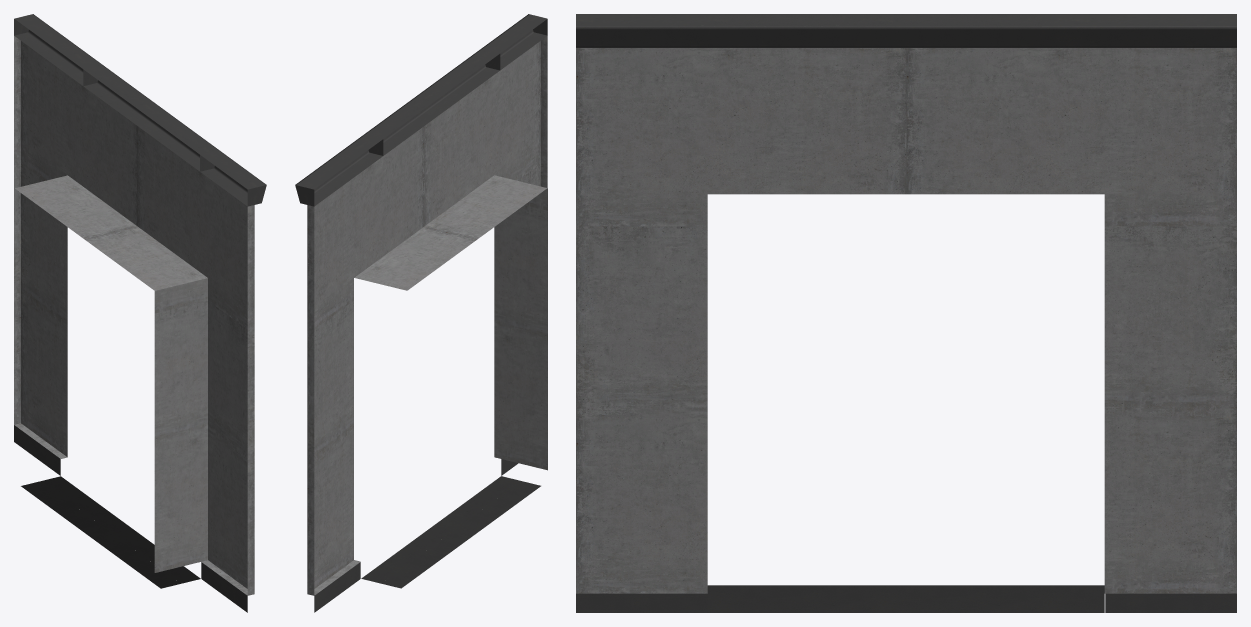
The model's file is SM_elevator_a_wall_400_400.fbx.
3 renders of one model, left to right at view 1: azimuth 30°, elevation 25°; view 2: azimuth 150°, elevation 25°; view 3: azimuth 270°, elevation 25°, orthographic. The views are drawn at different scales.
Parts seen in each view (by area): view 1: polySurface832, polySurface843; view 2: polySurface832, polySurface843; view 3: polySurface832, polySurface843.
Boxes of the visible parts, box(x1,y1,x2,y2) form: polySurface832: box(14, 36, 254, 595); polySurface843: box(14, 14, 266, 612); polySurface832: box(307, 36, 547, 595); polySurface843: box(295, 14, 547, 612); polySurface832: box(576, 48, 1236, 593); polySurface843: box(576, 14, 1236, 612).
Size of the model in its own units: 0.6495 by 4 by 4.
